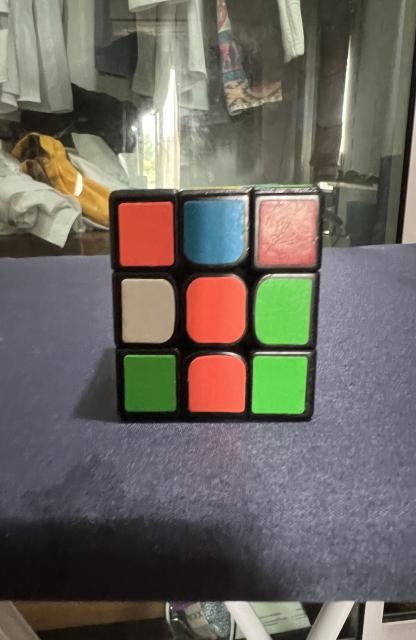Blue: (184, 199, 245, 265)
Green: (255, 278, 312, 345), (251, 355, 308, 414), (124, 355, 177, 411)
Orange: (186, 276, 247, 344), (118, 201, 174, 266), (188, 354, 246, 412)
Red: (258, 199, 317, 266)
White: (121, 279, 176, 344)
